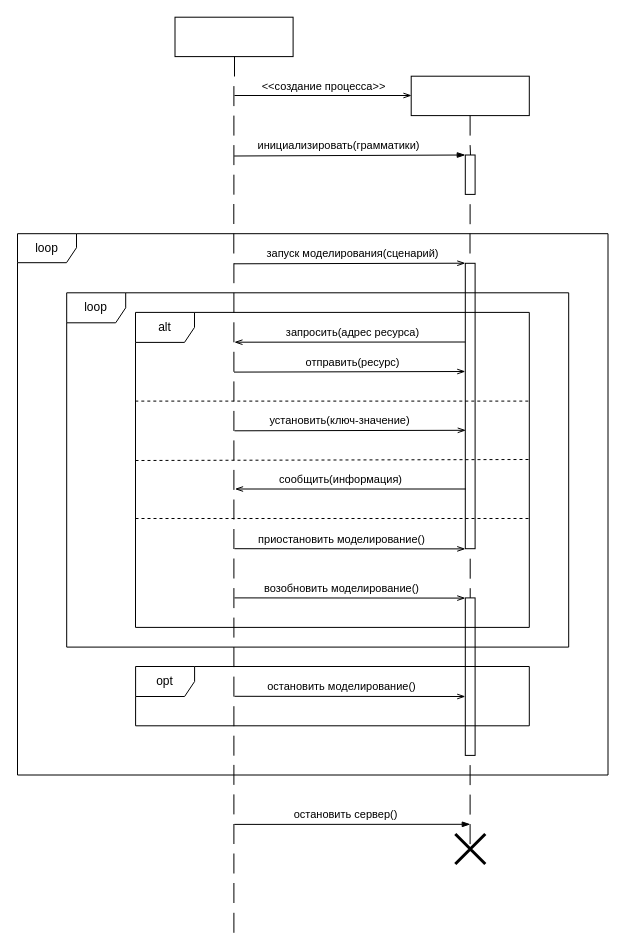
The diagram is 626 pixels wide and 952 high, and some of its shapes have lost their labels. Each missing label, with the box of its shape:
Плагин: (174, 16, 293, 57)
Сервер: (410, 75, 529, 116)
